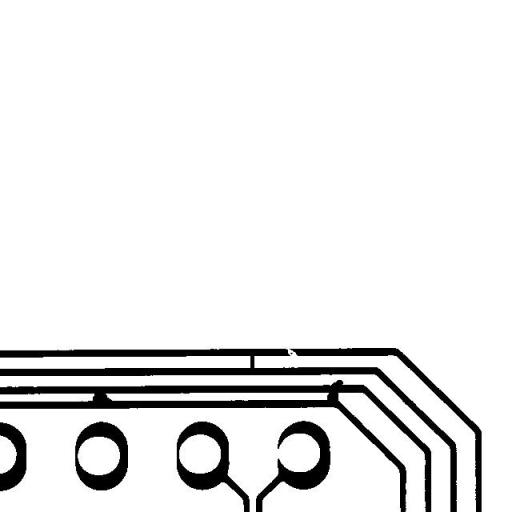open: (274, 336, 305, 365)
short: (319, 374, 346, 412), (85, 383, 119, 412), (240, 341, 262, 378)
spur: (325, 372, 350, 396)
